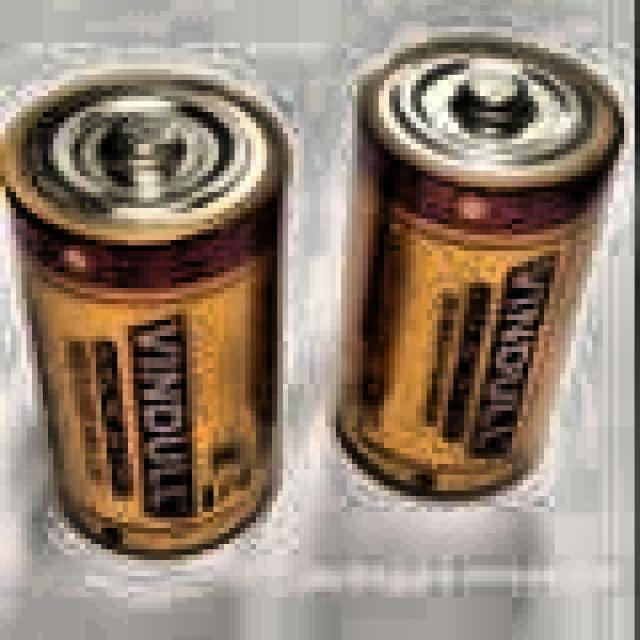Non-Valuable Waste - Batteries: (2, 76, 285, 553), (340, 42, 622, 493)
